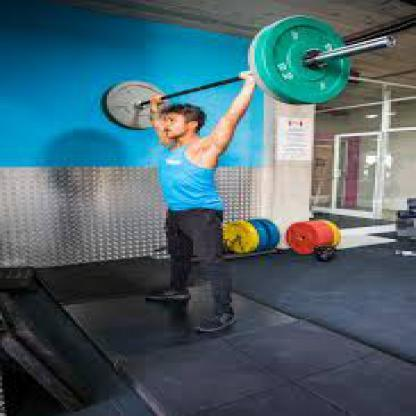Barbell: (382, 35, 400, 50)
